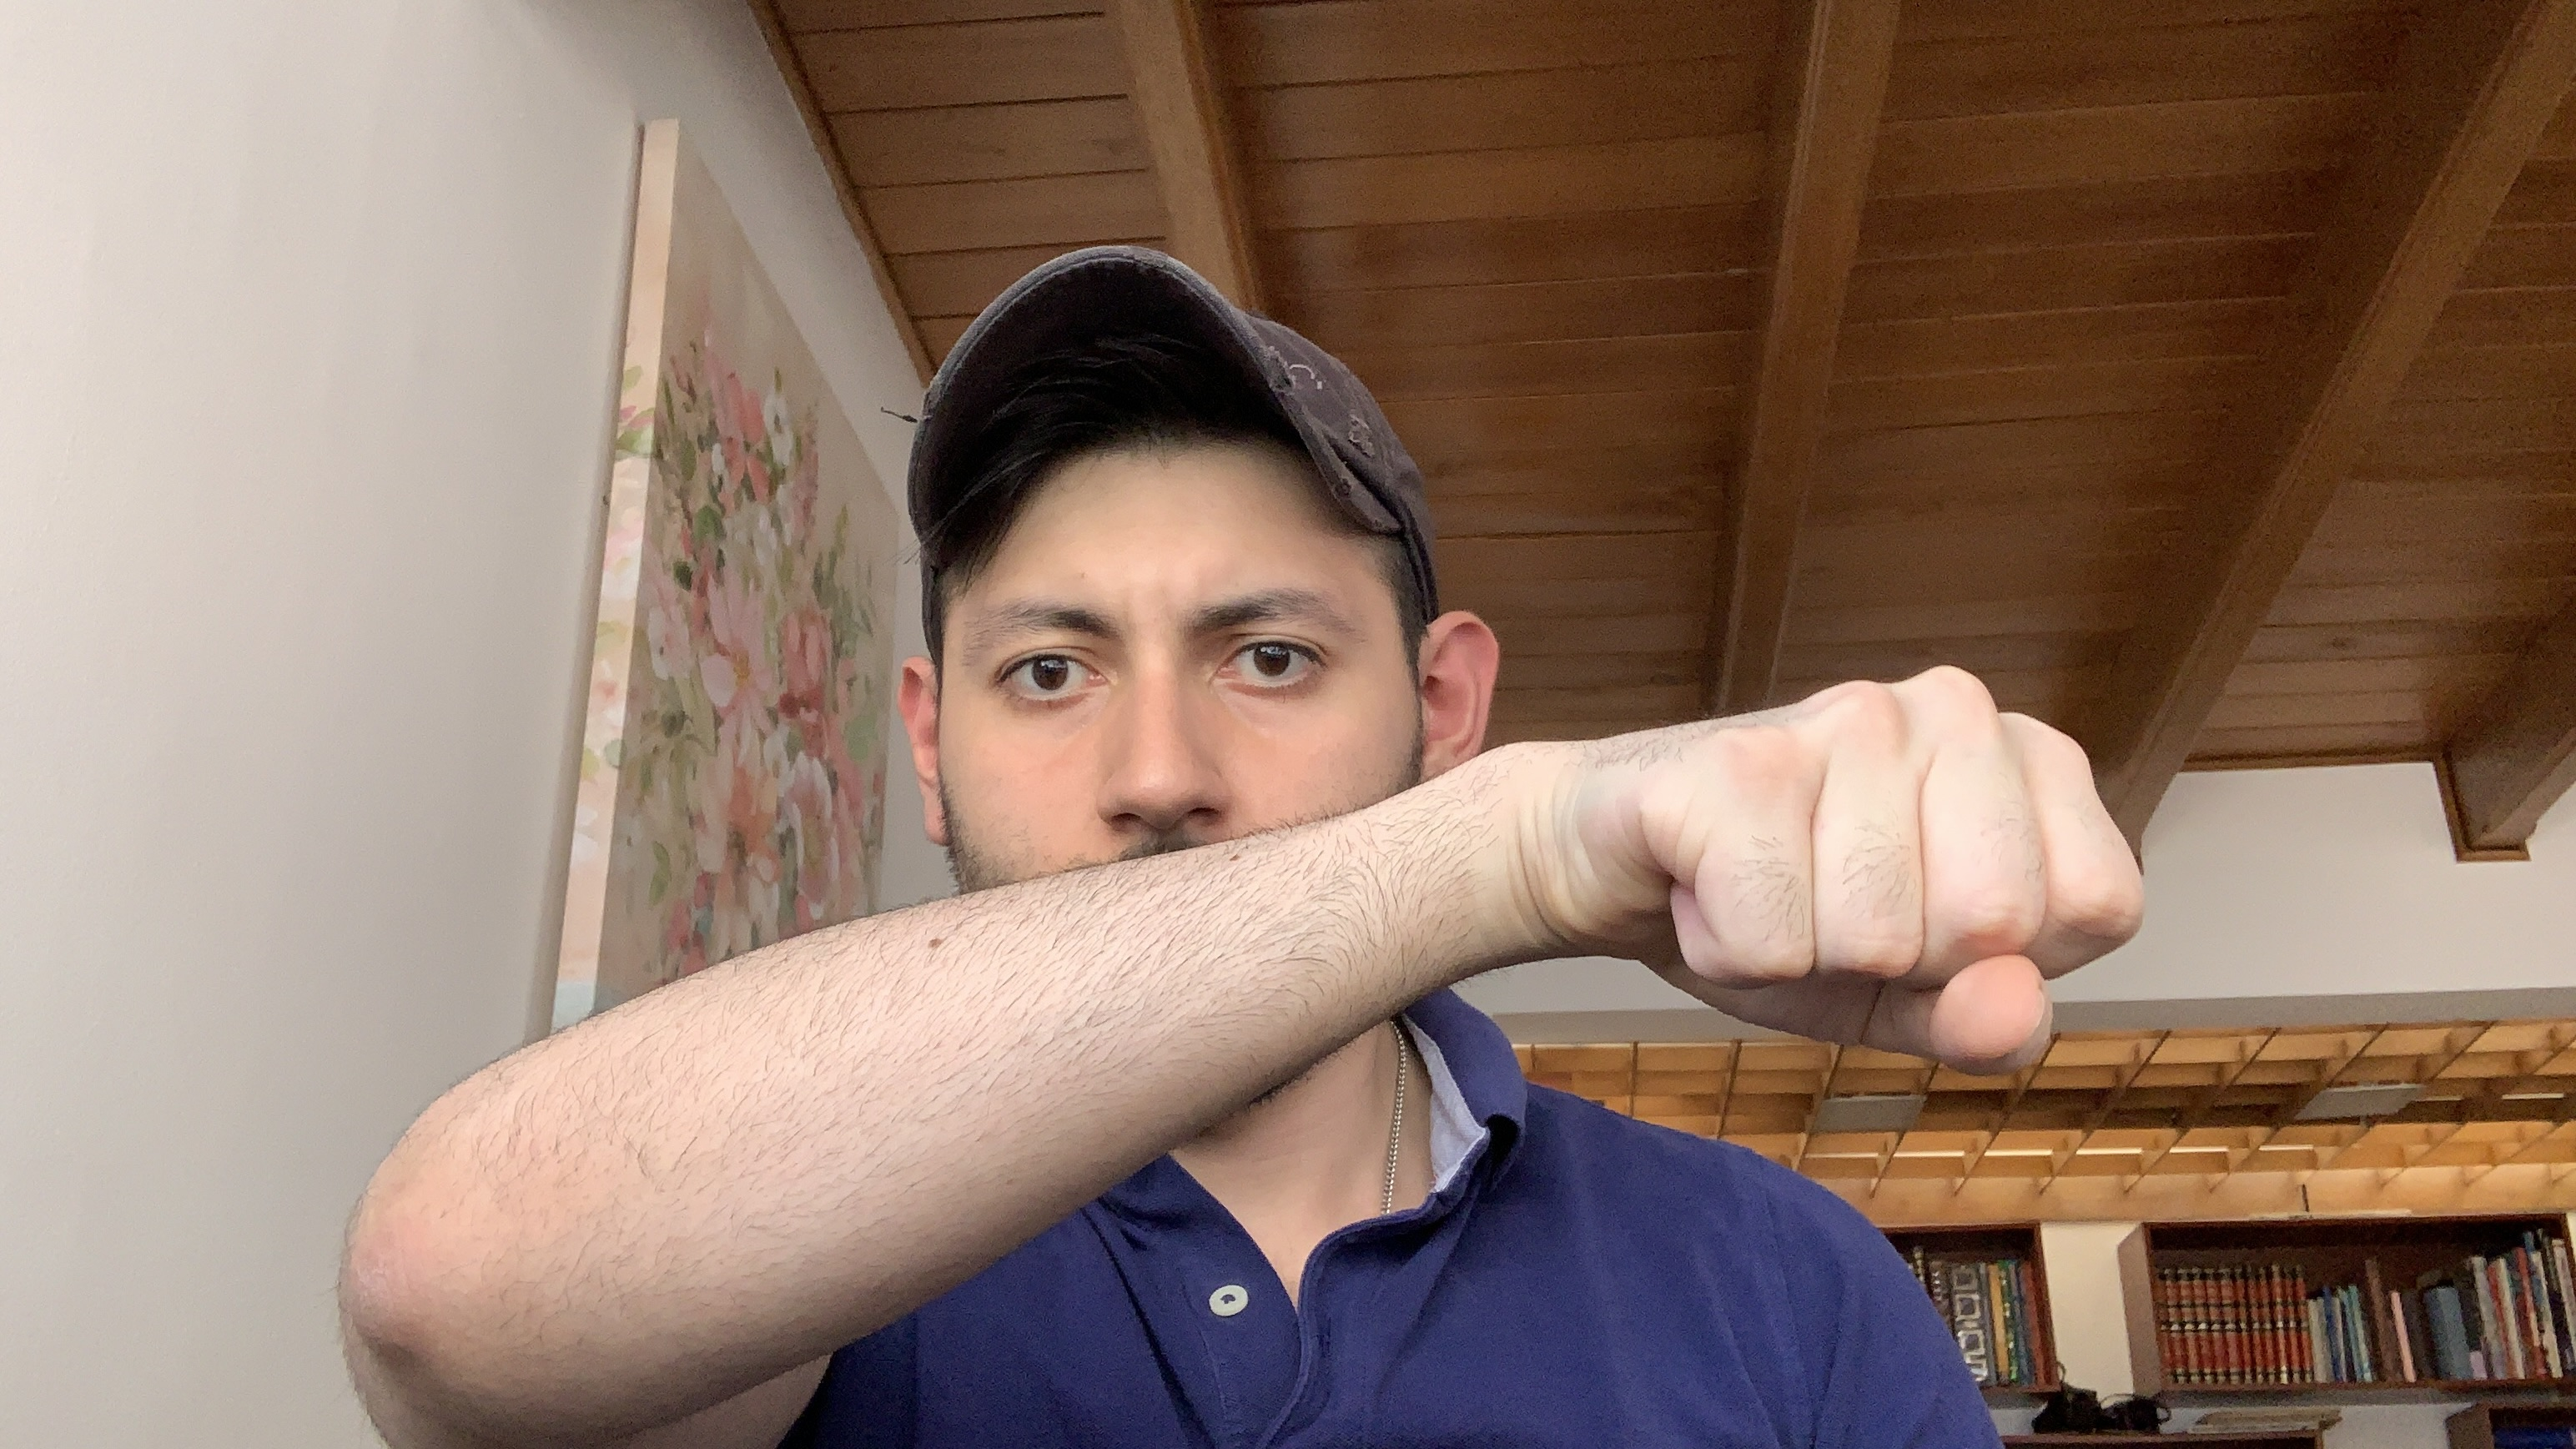Yes: (1522, 655, 2158, 1095)
